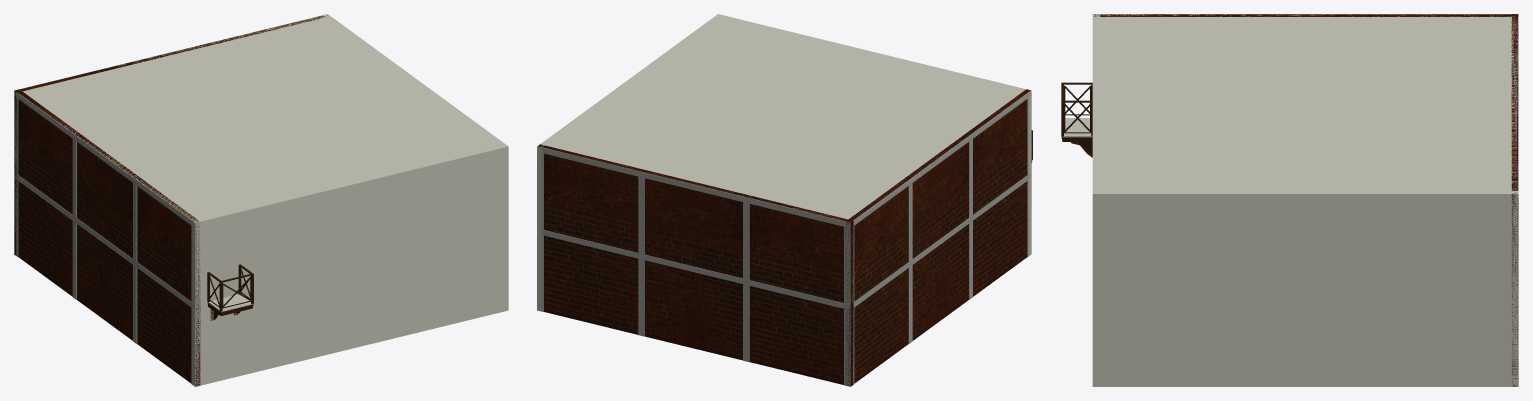
Rendered from building.glb.
The picture shows the model from 3 angles, left to right: view 1: azimuth 30°, elevation 25°; view 2: azimuth 150°, elevation 25°; view 3: azimuth 270°, elevation 25°; orthographic projection. The views are drawn at different scales.
Parts seen in each view (by area): view 1: roof/house:0/roof_slab#0001, house:0/edge0/z0/house:0/edge0/z0/wall_0_0, house:0/edge3/z0/house:0/edge3/z0/wall_0_0, house:0/edge2/z0/house:0/edge2/z0/wall_0_0, house:0/edge3/z0/house:0/edge3/z0/beam_0_0, house:0/edge3/z0/house:0/edge3/z0/beam_1_0, house:0/edge1/z0/house:0/edge1/z0/wall_0_0; view 2: roof/house:0/roof_slab#0001, house:0/edge2/z0/house:0/edge2/z0/wall_0_0, house:0/edge3/z0/house:0/edge3/z0/wall_0_0, house:0/edge1/z0/house:0/edge1/z0/wall_0_0, house:0/edge2/z0/house:0/edge2/z0/beam_1_0, house:0/edge2/z0/house:0/edge2/z0/beam_0_0, house:0/edge0/z0/house:0/edge0/z0/wall_0_0, house:0/edge3/z0/house:0/edge3/z0/beam_0_0, house:0/edge3/z0/house:0/edge3/z0/beam_1_0, house:0/edge2/z0/house:0/edge2/z0/column_2_0, house:0/edge2/z0/house:0/edge2/z0/column_2_1, house:0/edge2/z0/house:0/edge2/z0/column_3_0 (+3 smaller); view 3: house:0/edge1/z0/house:0/edge1/z0/wall_0_0, roof/house:0/roof_slab#0001, house:0/edge0/z0/house:0/edge0/z0/wall_0_0, house:0/edge2/z0/house:0/edge2/z0/wall_0_0, house:0/edge3/z0/house:0/edge3/z0/wall_0_0, balcony/sample/balcony_platform#0001.
Part boxes in pixels (left/top/right/bottom): roof/house:0/roof_slab#0001: left=15, top=14, right=506, bottom=225; house:0/edge0/z0/house:0/edge0/z0/wall_0_0: left=192, top=144, right=508, bottom=386; house:0/edge3/z0/house:0/edge3/z0/wall_0_0: left=17, top=89, right=200, bottom=386; house:0/edge2/z0/house:0/edge2/z0/wall_0_0: left=14, top=15, right=327, bottom=255; house:0/edge3/z0/house:0/edge3/z0/beam_0_0: left=14, top=173, right=195, bottom=309; house:0/edge3/z0/house:0/edge3/z0/beam_1_0: left=14, top=92, right=195, bottom=227; house:0/edge1/z0/house:0/edge1/z0/wall_0_0: left=323, top=14, right=508, bottom=311; roof/house:0/roof_slab#0001: left=540, top=14, right=1031, bottom=223; house:0/edge2/z0/house:0/edge2/z0/wall_0_0: left=538, top=144, right=853, bottom=386; house:0/edge3/z0/house:0/edge3/z0/wall_0_0: left=845, top=89, right=1030, bottom=385; house:0/edge1/z0/house:0/edge1/z0/wall_0_0: left=537, top=15, right=722, bottom=311; house:0/edge2/z0/house:0/edge2/z0/beam_1_0: left=538, top=147, right=850, bottom=228; house:0/edge2/z0/house:0/edge2/z0/beam_0_0: left=542, top=230, right=850, bottom=309; house:0/edge0/z0/house:0/edge0/z0/wall_0_0: left=717, top=14, right=1031, bottom=256; house:0/edge3/z0/house:0/edge3/z0/beam_0_0: left=850, top=172, right=1031, bottom=309; house:0/edge3/z0/house:0/edge3/z0/beam_1_0: left=850, top=90, right=1031, bottom=227; house:0/edge2/z0/house:0/edge2/z0/column_2_0: left=638, top=176, right=644, bottom=254; house:0/edge2/z0/house:0/edge2/z0/column_2_1: left=638, top=258, right=644, bottom=336; house:0/edge2/z0/house:0/edge2/z0/column_3_0: left=743, top=202, right=749, bottom=280; house:0/edge1/z0/house:0/edge1/z0/wall_0_0: left=1092, top=191, right=1518, bottom=386; roof/house:0/roof_slab#0001: left=1092, top=14, right=1518, bottom=198; house:0/edge0/z0/house:0/edge0/z0/wall_0_0: left=1092, top=14, right=1099, bottom=386; house:0/edge2/z0/house:0/edge2/z0/wall_0_0: left=1511, top=14, right=1518, bottom=386; house:0/edge3/z0/house:0/edge3/z0/wall_0_0: left=1093, top=14, right=1517, bottom=16; balcony/sample/balcony_platform#0001: left=1063, top=118, right=1092, bottom=137.
Size of the model in its own units: 12 by 6 by 12.89.
Materials: 4 (2 with a texture image).
